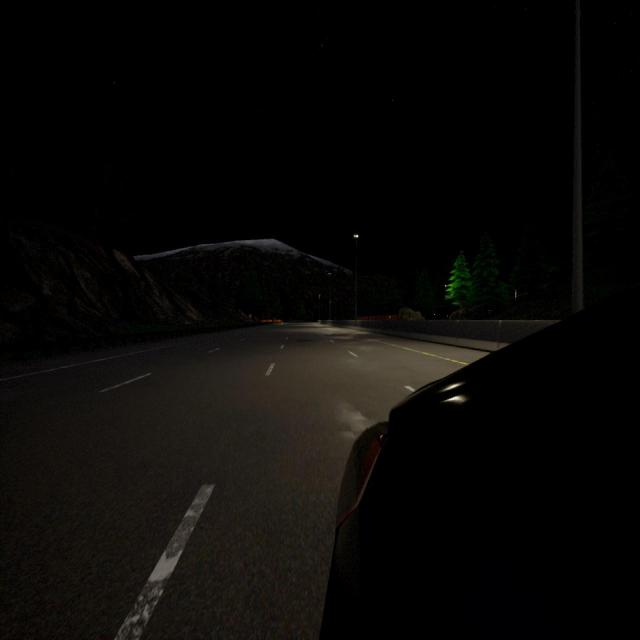Traffic_Signs: (248, 314, 252, 319)
Vehicle: (320, 287, 640, 637)
